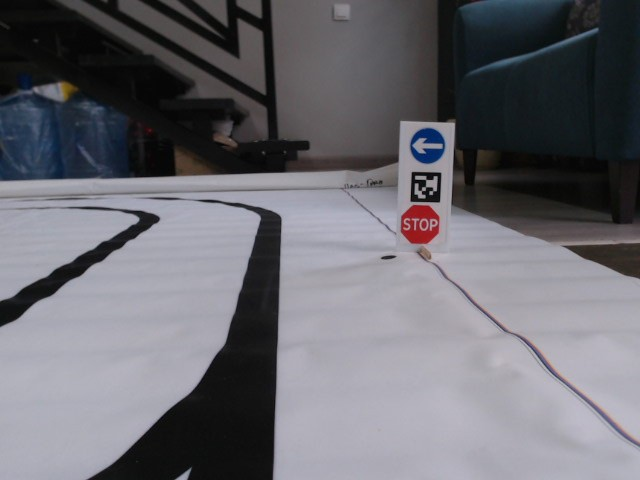Stop: (398, 203, 442, 246)
